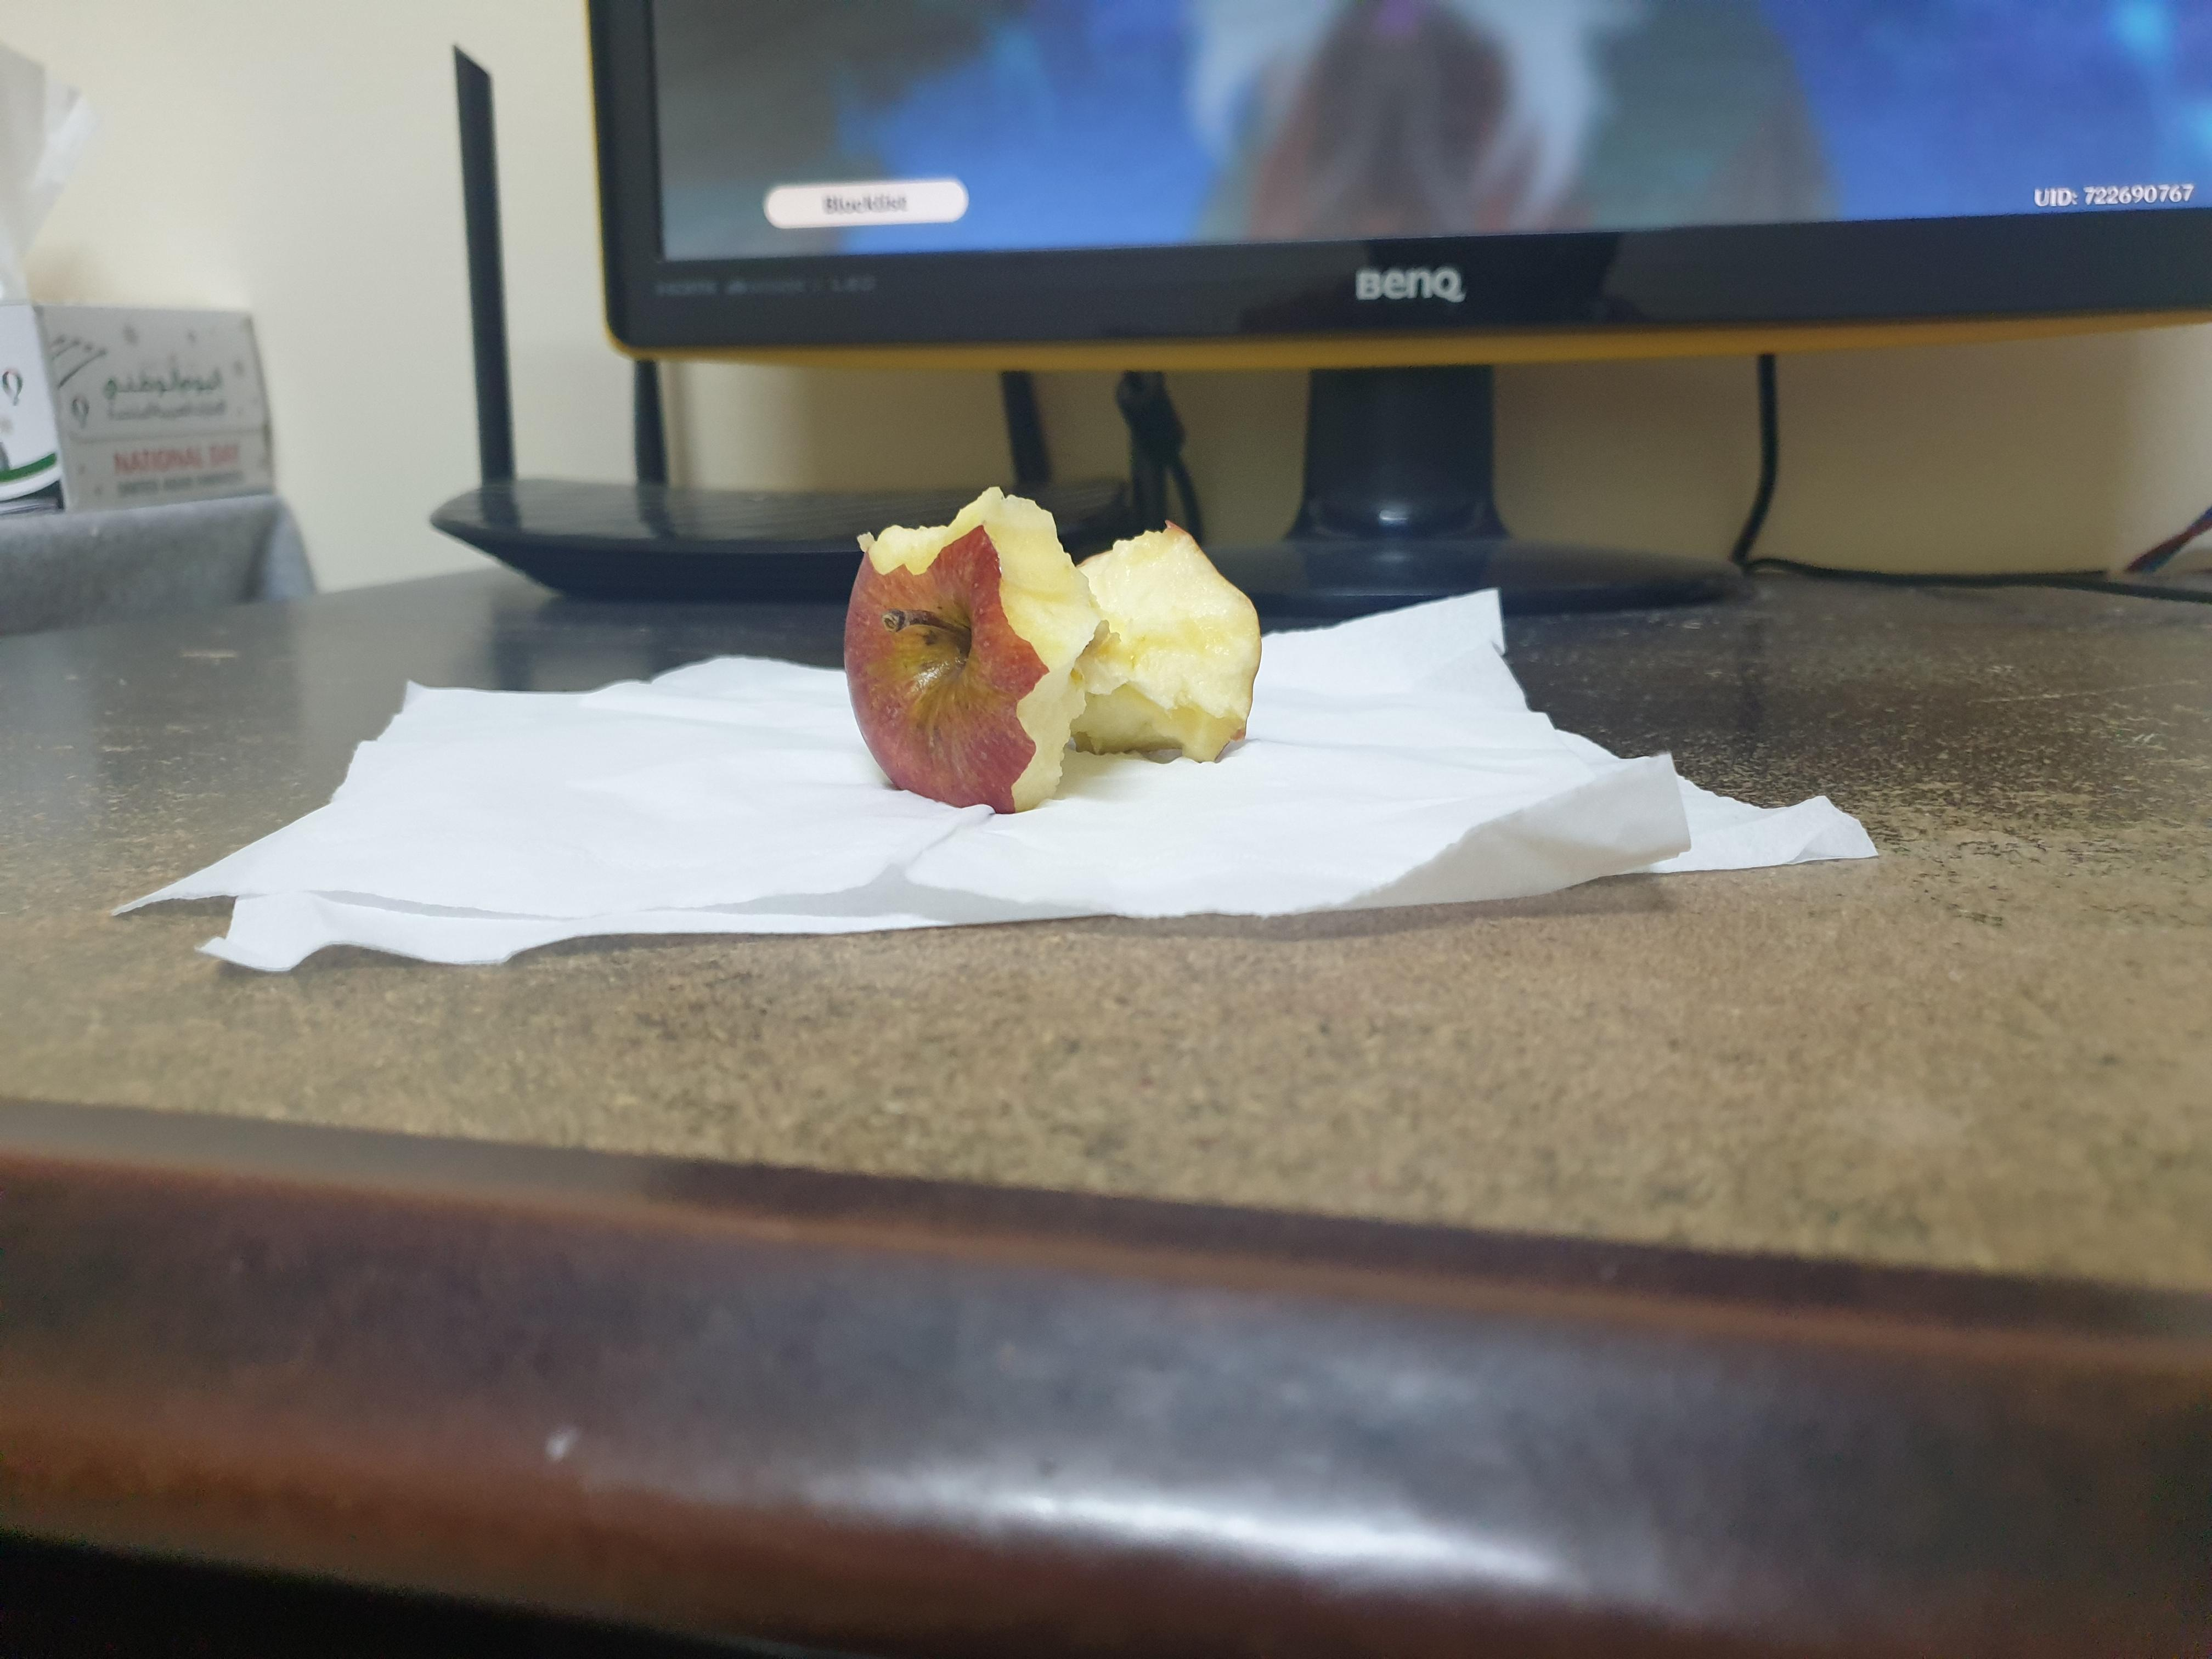Apple: (815, 462, 1301, 823)
